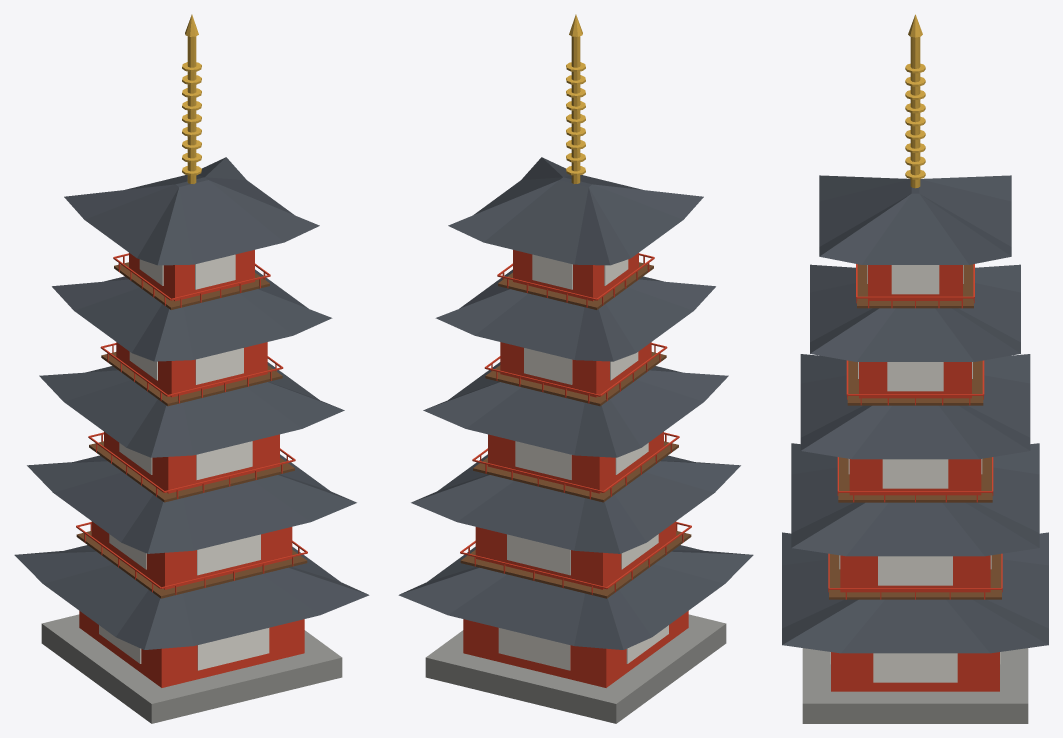
File: pagod5.glb
3 views of the same model, side by side, from view 1: azimuth 30°, elevation 25°; view 2: azimuth 150°, elevation 25°; view 3: azimuth 270°, elevation 25° (orthographic). The views are drawn at different scales.
Visible parts, largest first — view 1: pagod5; view 2: pagod5; view 3: pagod5.
Boxes of the visible parts, x1,y1,x2,y2 form: pagod5: (14, 14, 369, 723); pagod5: (398, 14, 753, 723); pagod5: (782, 14, 1048, 723).
Bounding box in the file's own units: 14.2 × 38.9 × 14.2.
